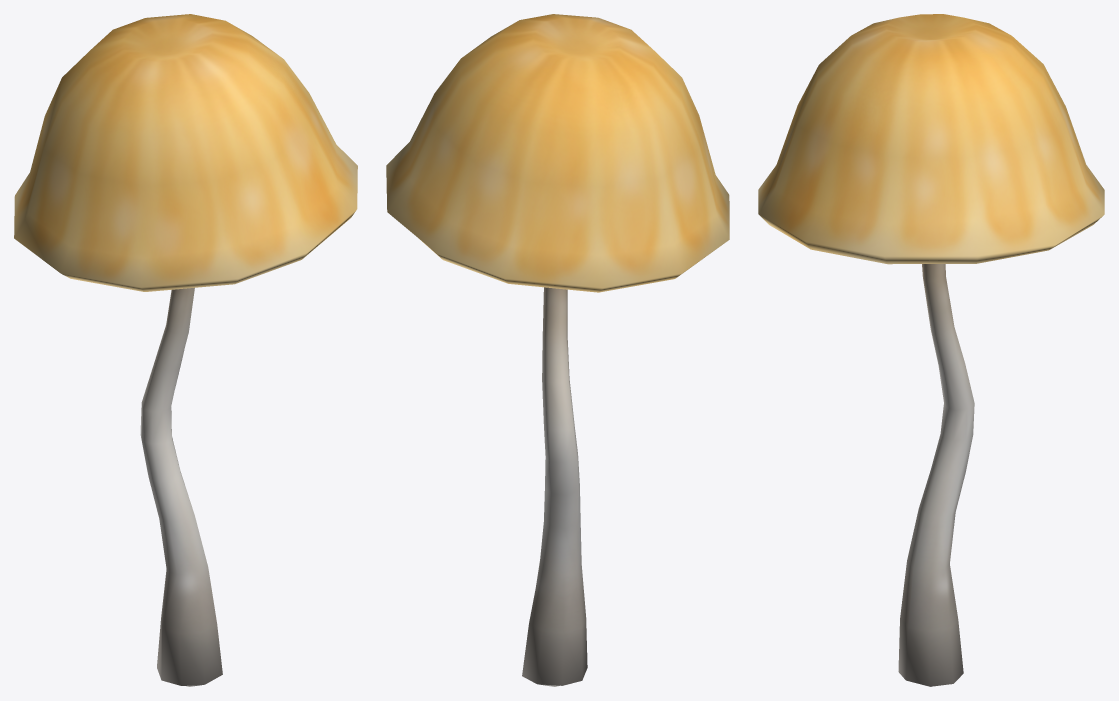
Rendered from MushB.fbx.
The picture shows the model from 3 angles, left to right: view 1: azimuth 30°, elevation 25°; view 2: azimuth 150°, elevation 25°; view 3: azimuth 270°, elevation 25°; orthographic projection.
Visible parts, largest first — view 1: mushB; view 2: mushB; view 3: mushB.
Boxes of the visible parts, x1,y1,x2,y2 form: mushB: (14, 14, 357, 686); mushB: (386, 14, 729, 686); mushB: (758, 14, 1104, 686).
Size of the model in its own units: 11.31 by 23.91 by 11.49.
